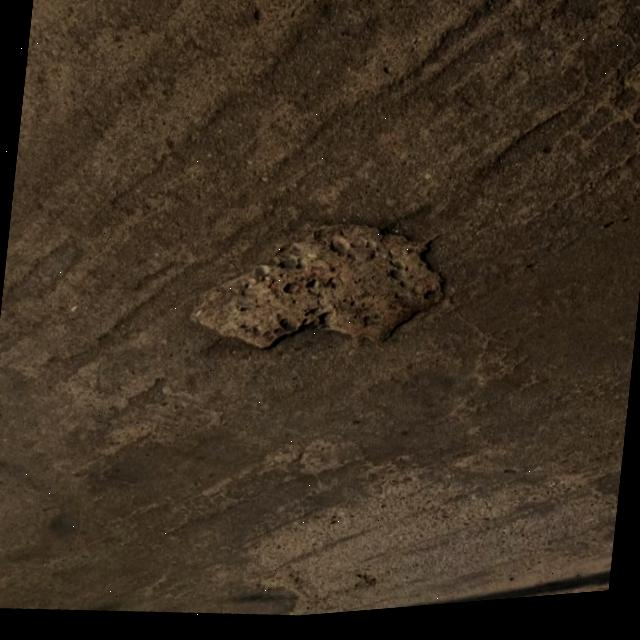Pothole: (186, 207, 452, 381)
